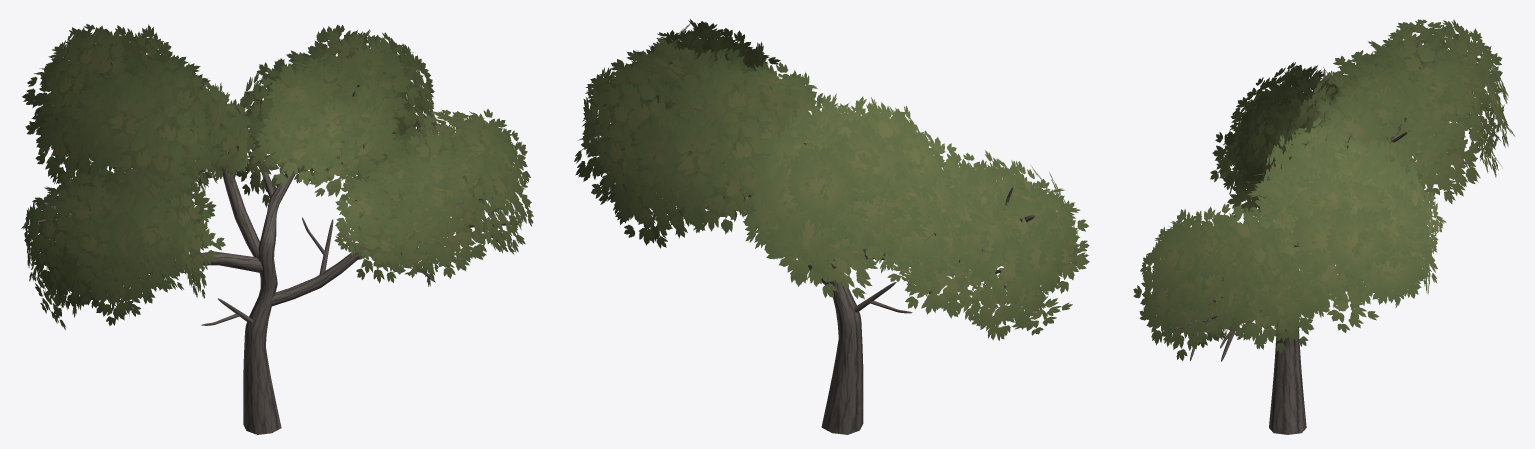
Rendered from MapleTree_3.gltf.
3 renders of one model, left to right at view 1: azimuth 30°, elevation 25°; view 2: azimuth 150°, elevation 25°; view 3: azimuth 270°, elevation 25°, orthographic. The views are drawn at different scales.
Visible parts, largest first — view 1: MapleTree_3; view 2: MapleTree_3; view 3: MapleTree_3.
Boxes of the visible parts, x1,y1,x2,y2 form: MapleTree_3: (21,24,533,434); MapleTree_3: (574,19,1089,434); MapleTree_3: (1133,19,1514,434).
Bounding box in the file's own units: 8.98 × 6.99 × 6.61.
2 materials, 2 textured.
